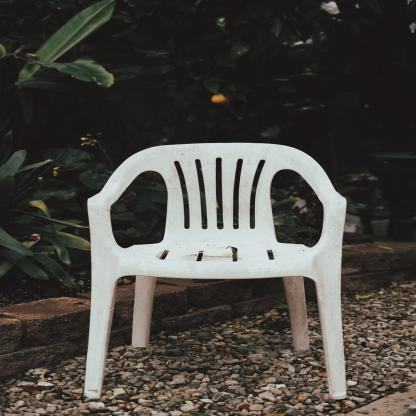chair: (75, 135, 354, 410)
